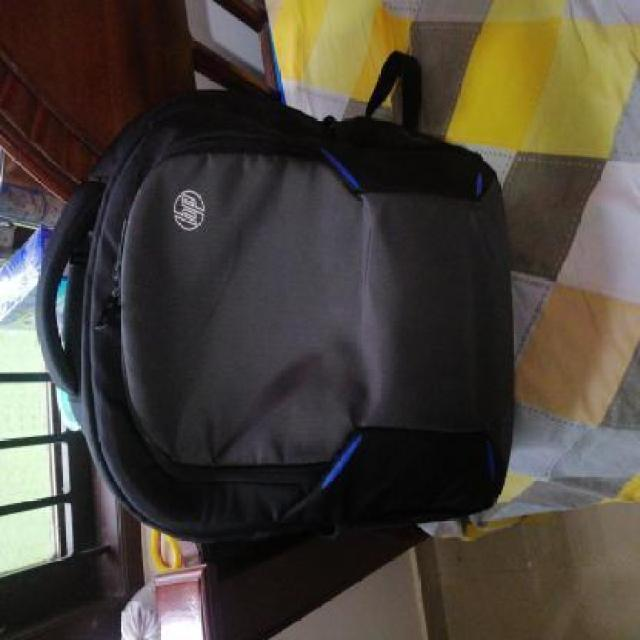backpack: (32, 83, 520, 551)
